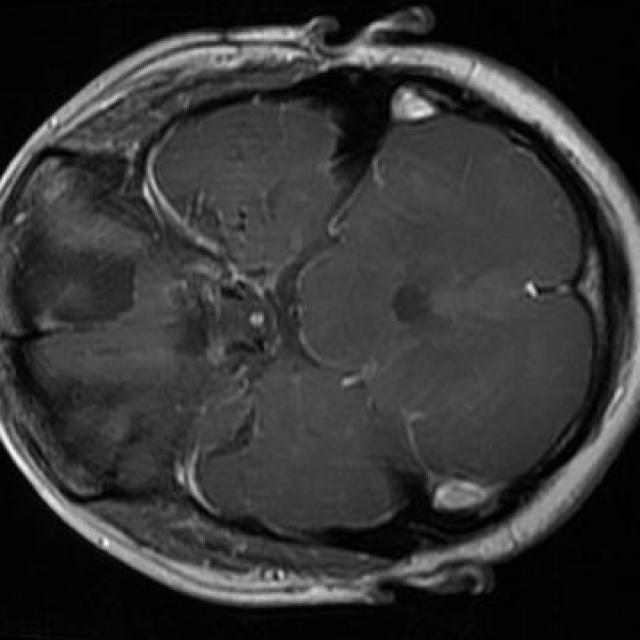glioma: (11, 219, 134, 333)
